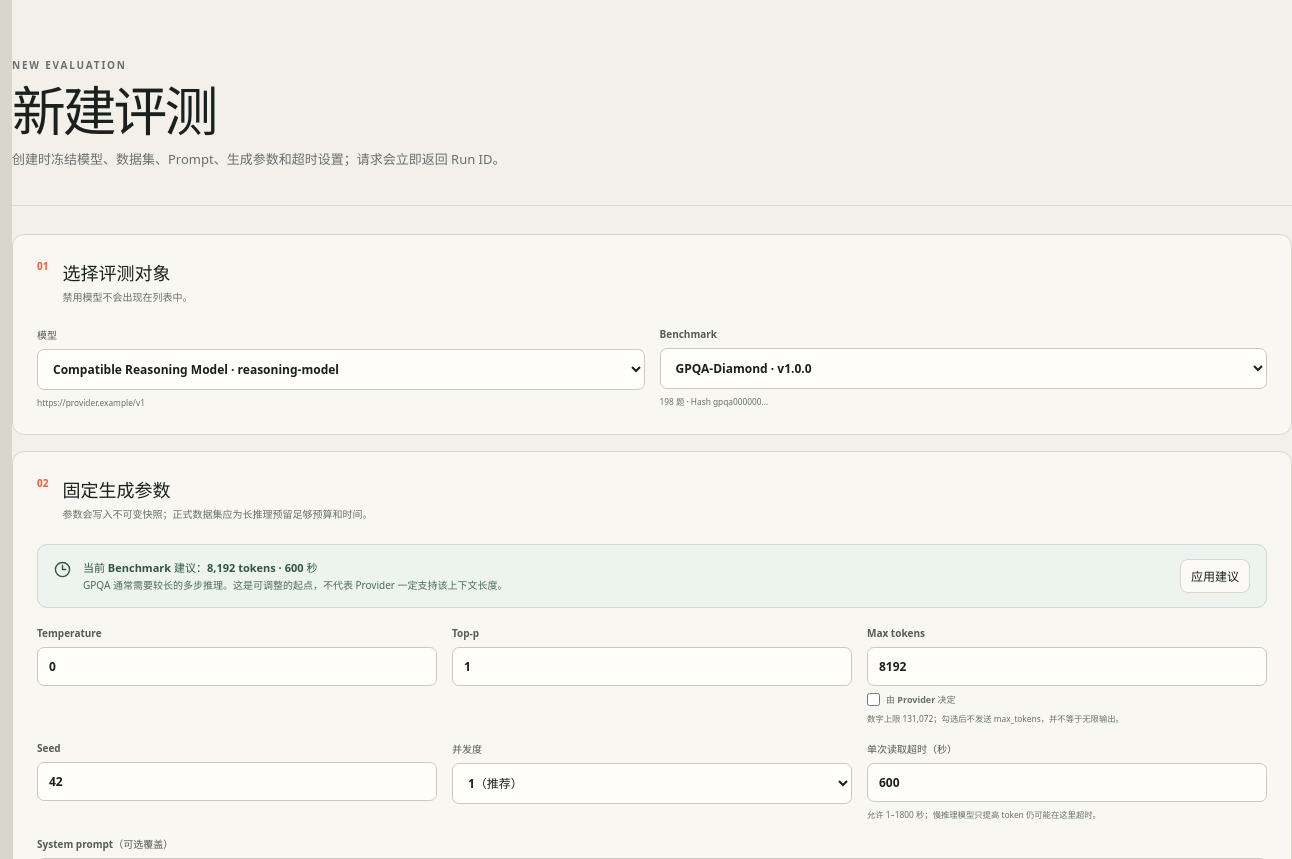
Test case: NewRunPage generation recommendations › updates untouched values when switching between formal benchmark profiles
The image size is (1292, 859).
Select "MMLU-Pro (official_cot) · v1.0.0" in the dropdown labelled "Benchmark" at (963,369), box [660, 348, 1267, 389]
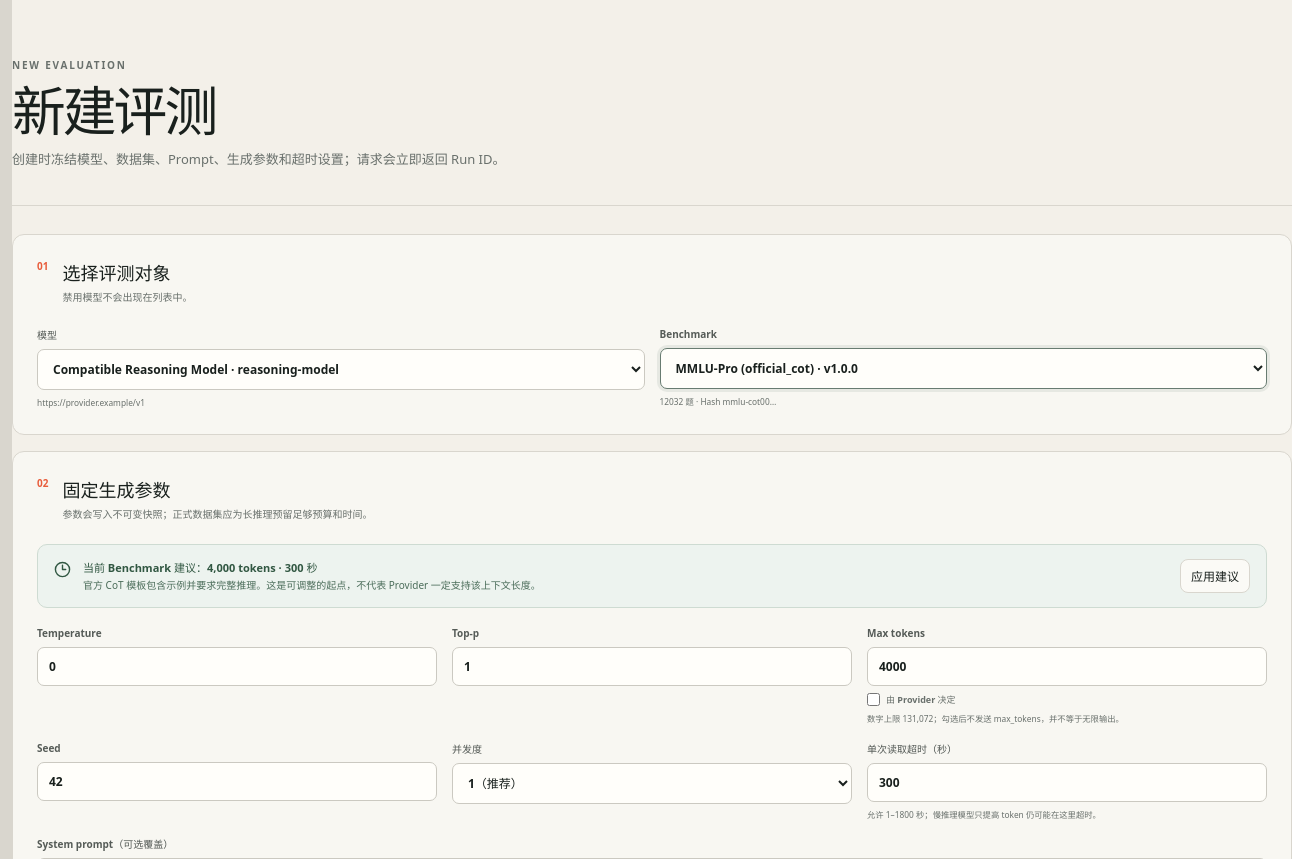
Check: the number field labelled "Max tokens" holds "4000", box [867, 647, 1267, 686]
Check: the number field labelled "单次读取超时（秒）" holds "300", box [867, 762, 1267, 802]
Select "MMLU-Pro (direct) · v1.0.0" in the dropdown labelled "Benchmark" at (963,369), box [660, 348, 1267, 389]
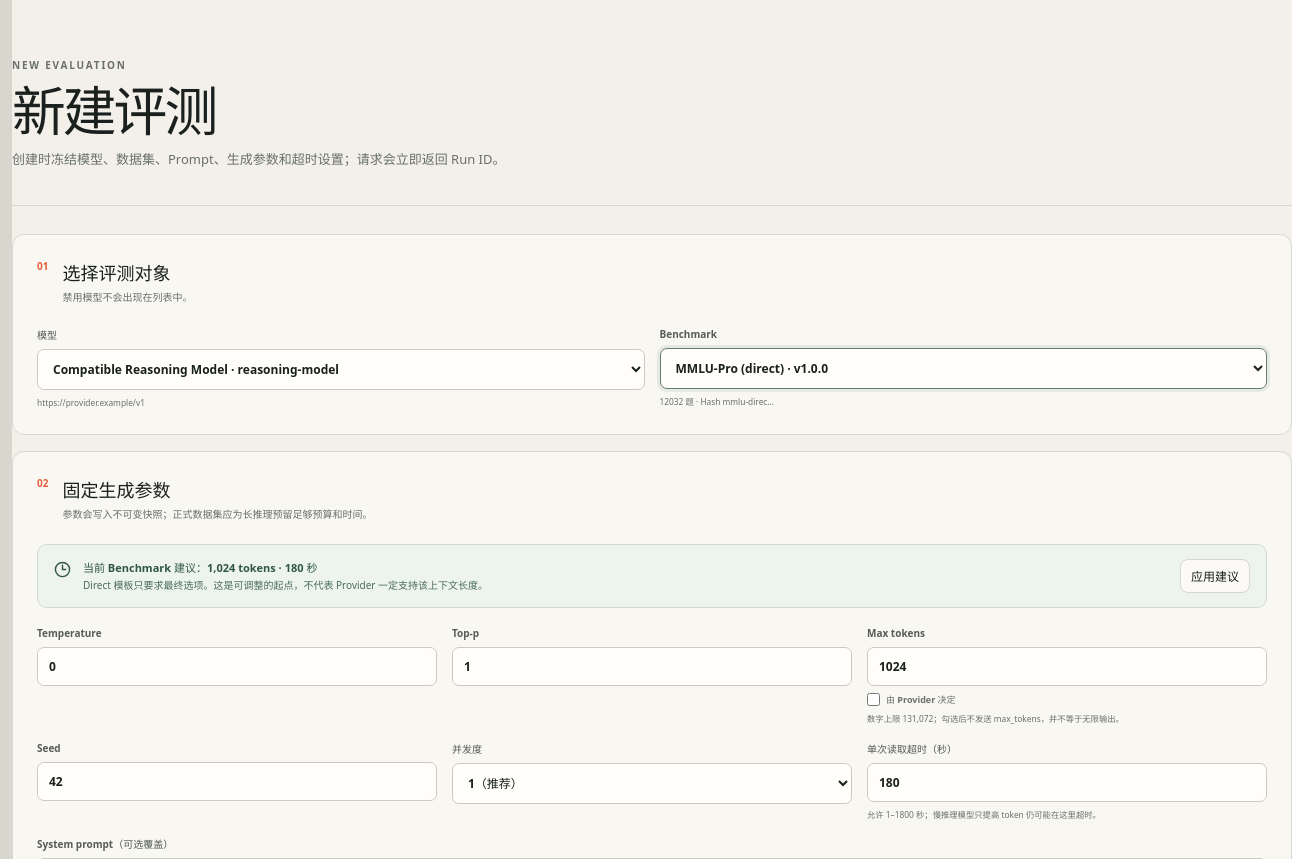
Check: the number field labelled "Max tokens" holds "1024", box [867, 647, 1267, 686]
Check: the number field labelled "单次读取超时（秒）" holds "180", box [867, 762, 1267, 802]
